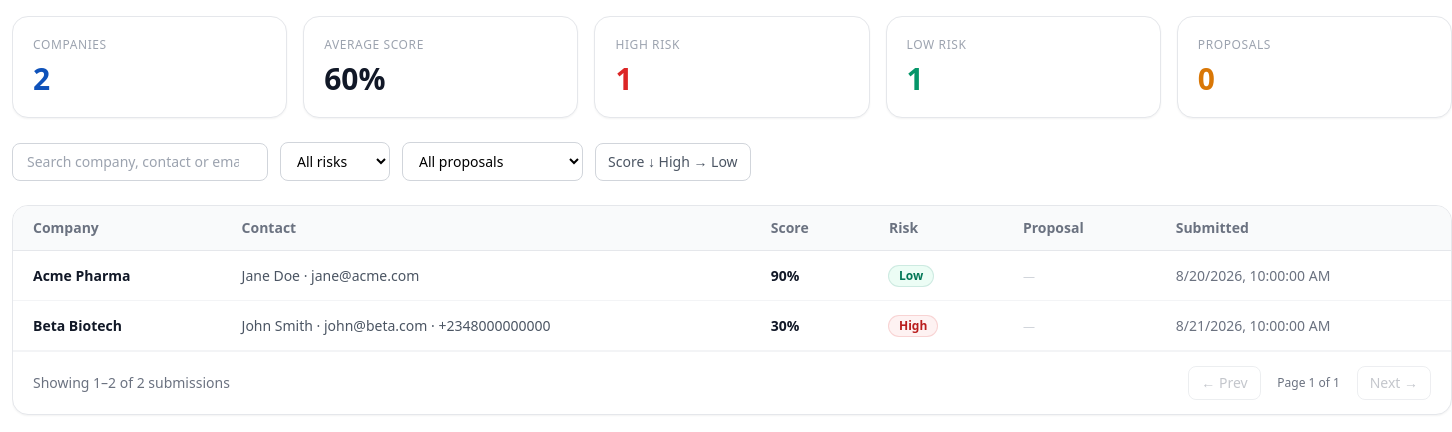
Test case: DashboardTable › searches by company name
Type "Beta" into the search field labelled "Search" at (140, 162), box [12,142,268,180]
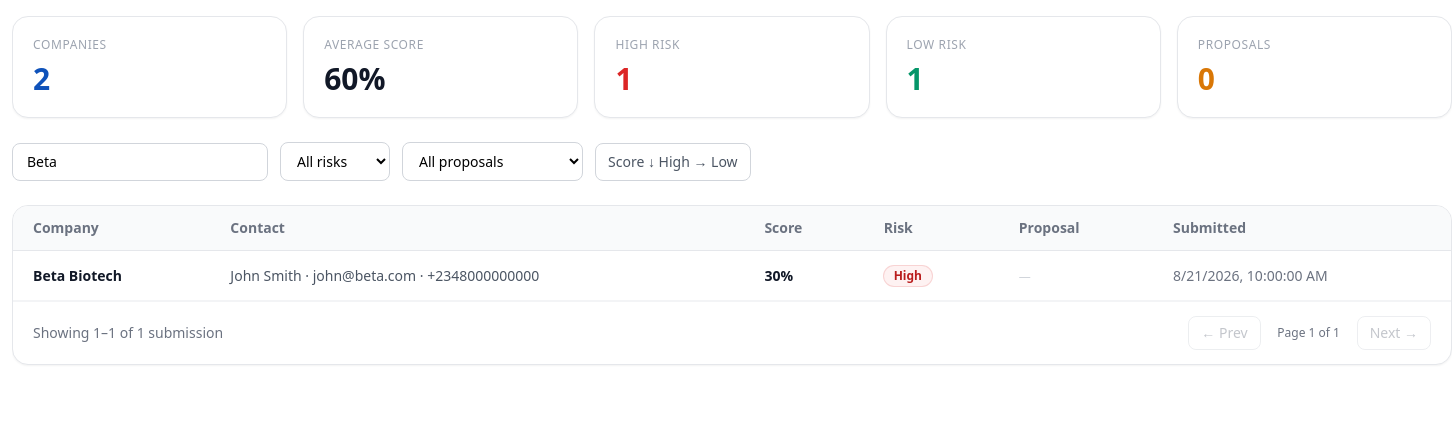
Expected: the text "Beta Biotech" is shown, [13,250,210,300]
Expected: the text "Acme Pharma" is gone
